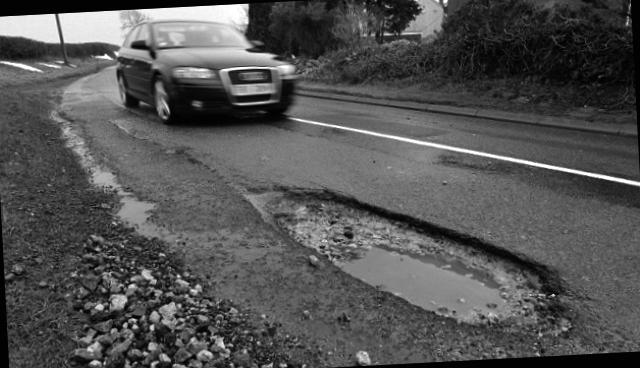Pothole: (237, 168, 568, 356)
